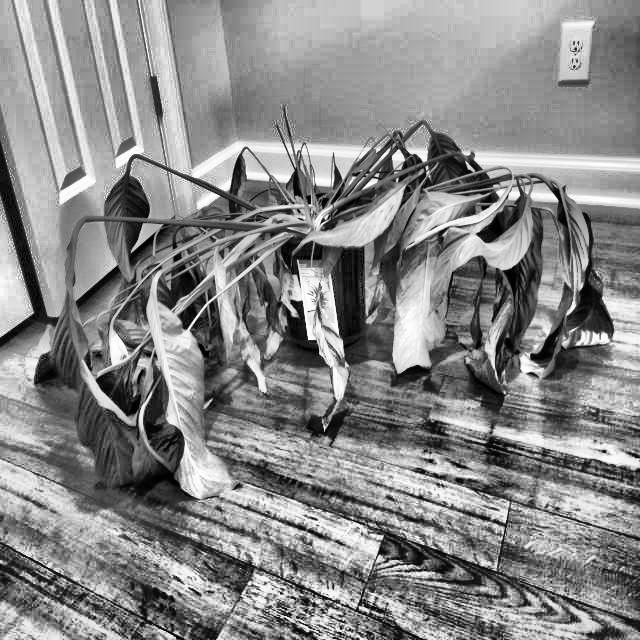plants: (26, 152, 618, 494), (299, 257, 356, 447), (392, 226, 454, 388), (472, 258, 524, 388)
